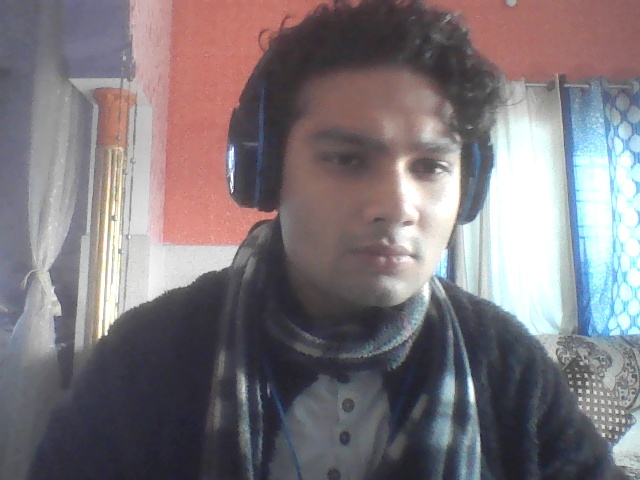real: (243, 0, 485, 343)
